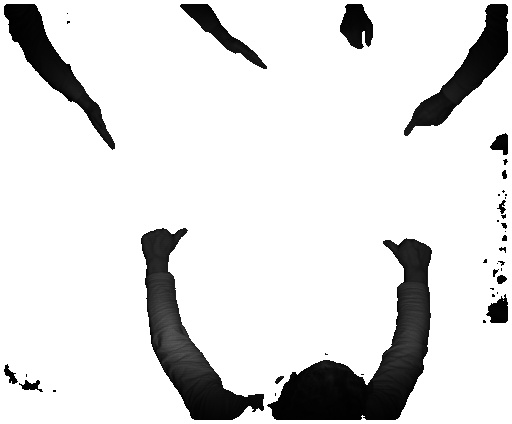hand: (377, 232, 431, 276), (136, 224, 191, 265), (400, 96, 451, 135), (336, 13, 375, 55)
spine: (83, 96, 119, 151), (223, 35, 271, 71)
